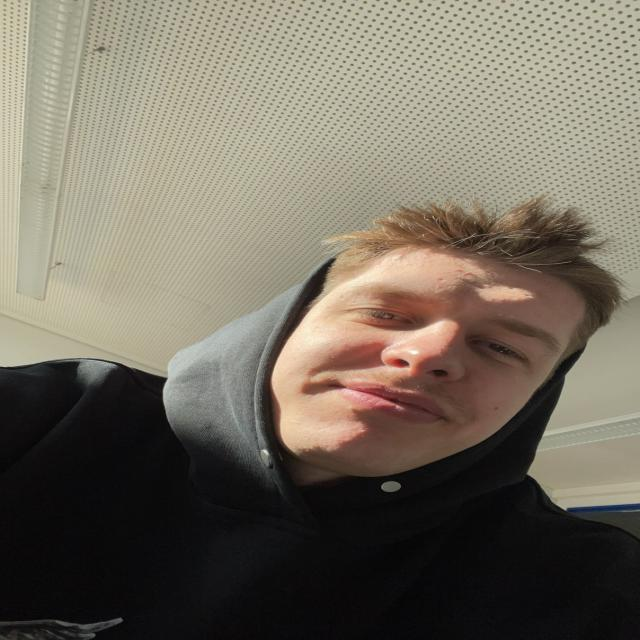JeremiasDiaz: (270, 210, 620, 488)
